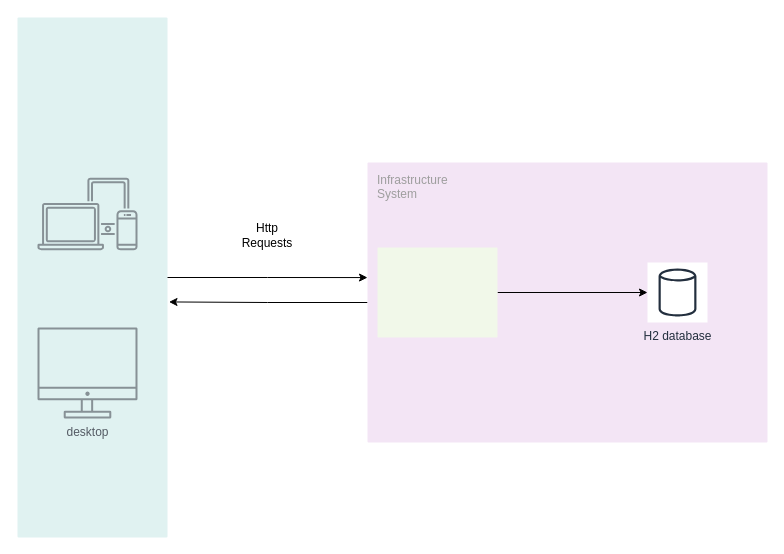
The diagram is 784 pixels wide and 554 high, and some of its shapes have lost their labels. The box of each missing label's shape, as (x1, y1, x2, y2) in pixels:
devices: (37, 177, 137, 250)
Rest API: (377, 247, 497, 337)
